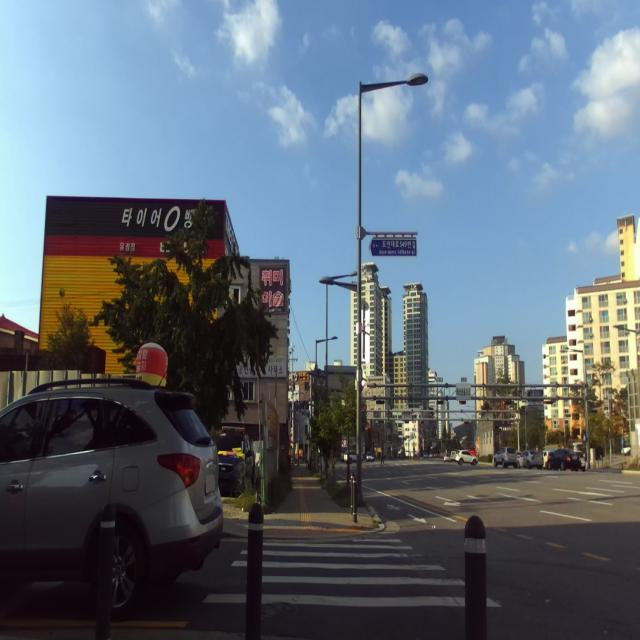횡단보도: (202, 539, 502, 609)
